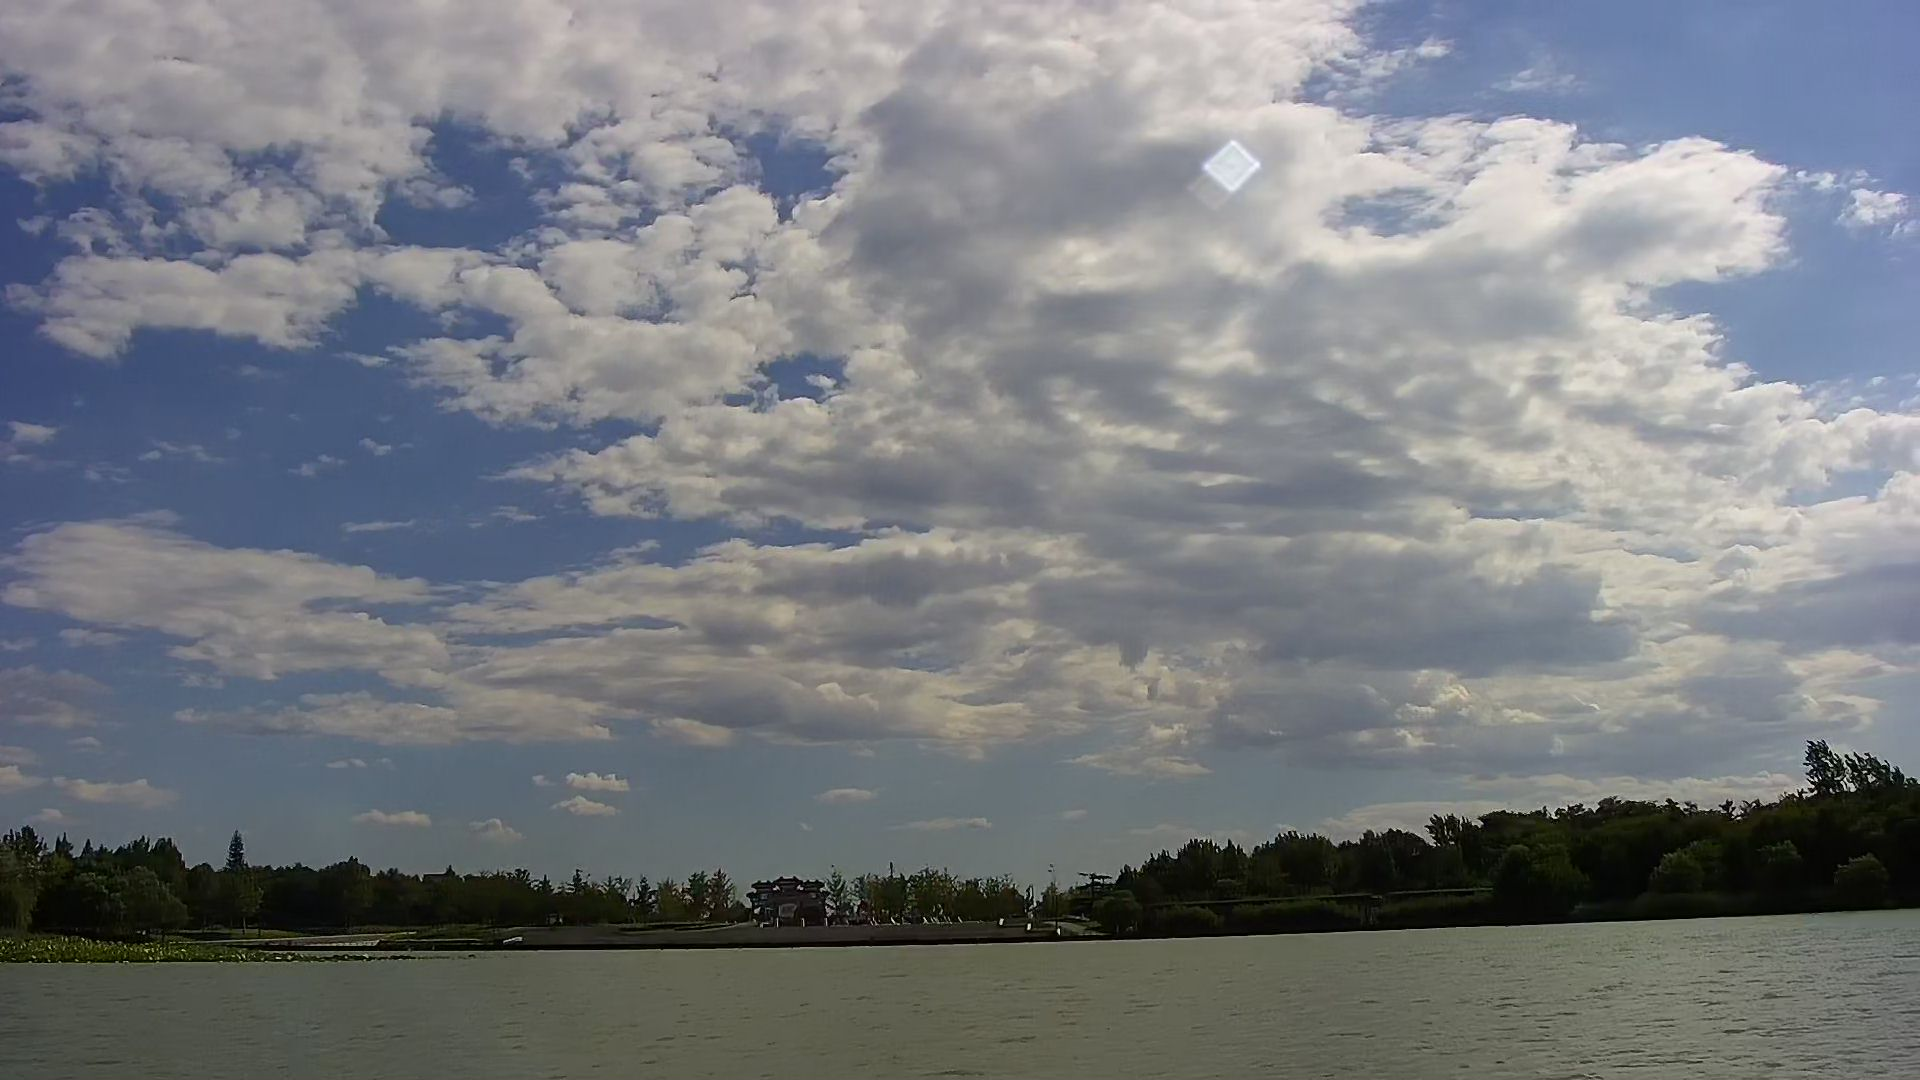harbor: (481, 913, 1121, 956)
